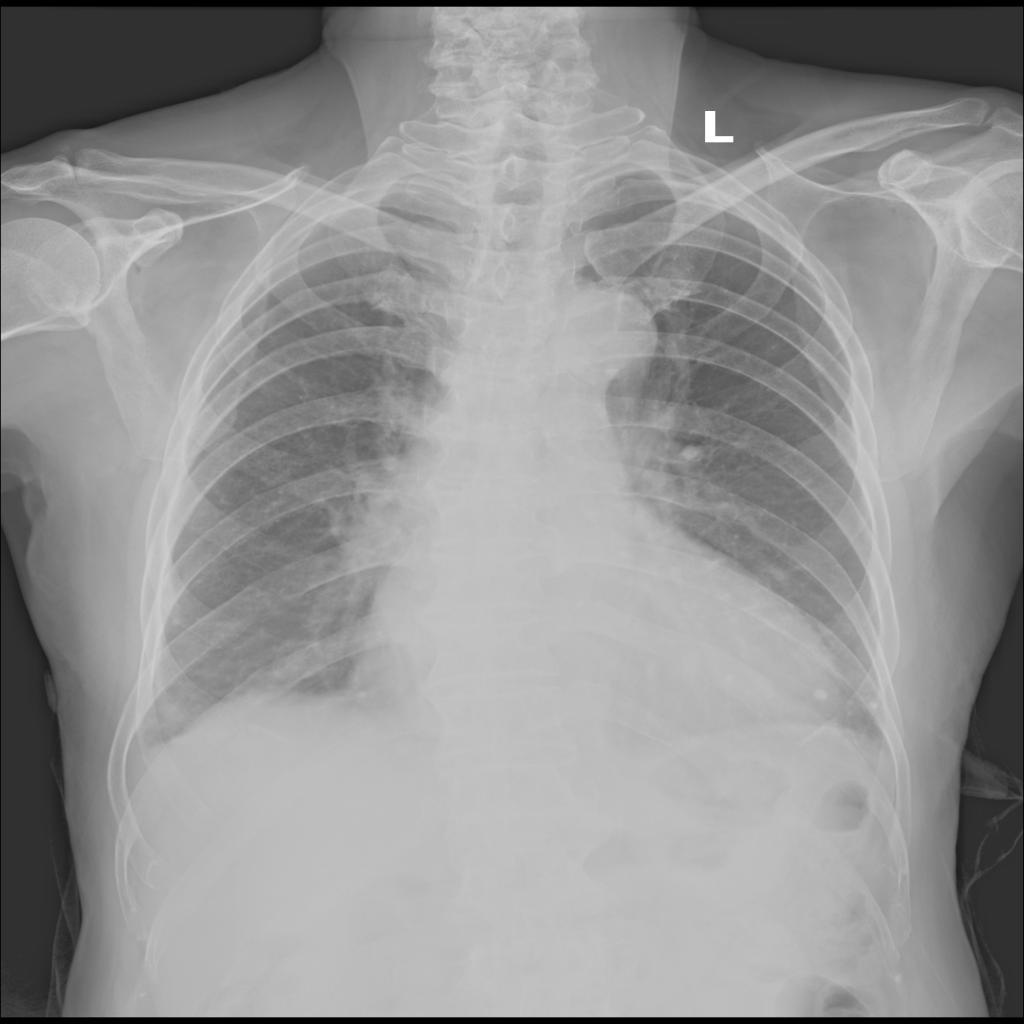Nodule: (811, 687, 831, 703), (865, 701, 882, 712)
